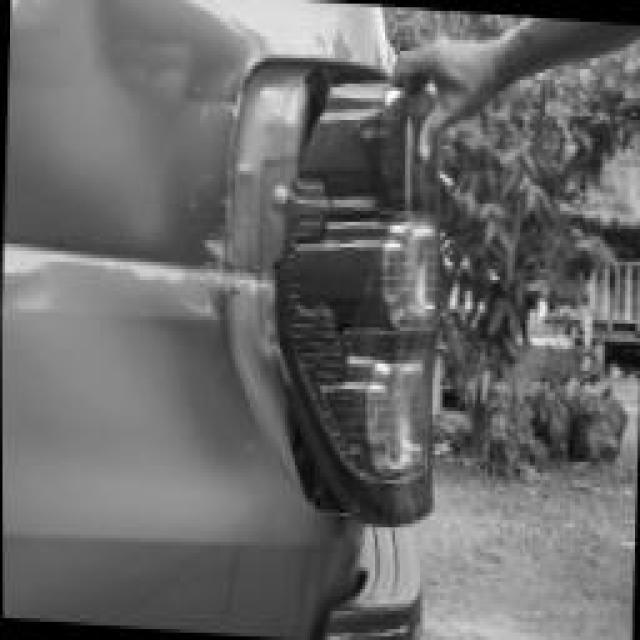Fender: (0, 0, 239, 498)
Light: (235, 55, 444, 516)
